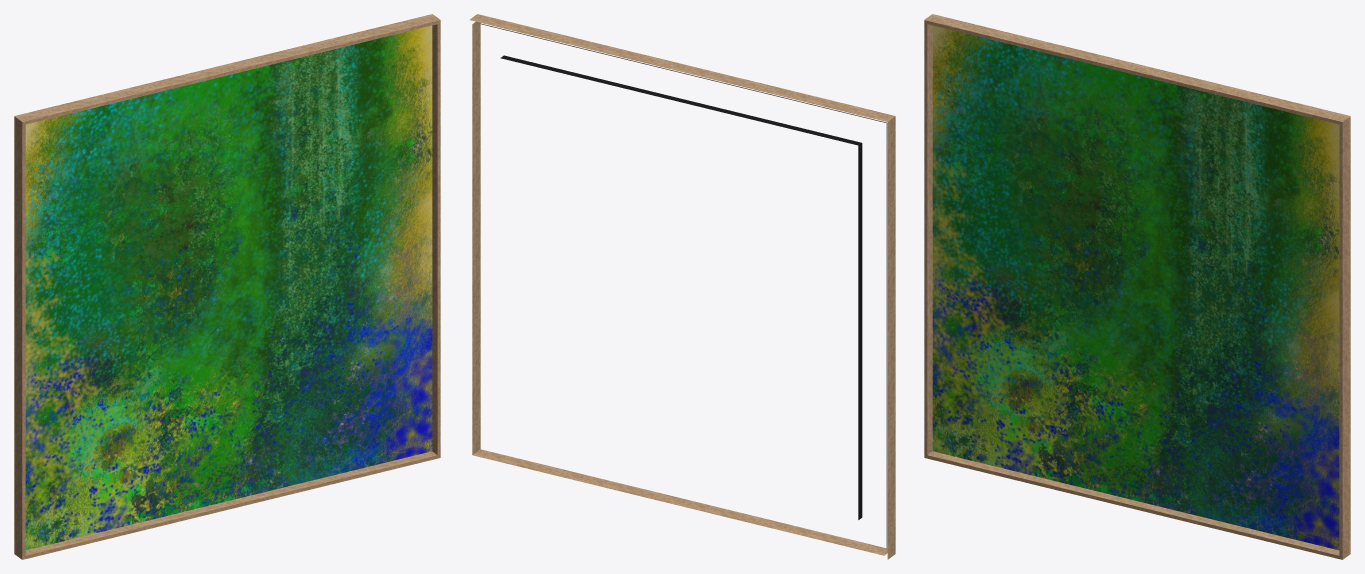
The model's file is va241_grand_caisse-chene.glb.
The picture shows the model from 3 angles, left to right: view 1: azimuth 30°, elevation 25°; view 2: azimuth 150°, elevation 25°; view 3: azimuth 330°, elevation 25°; orthographic projection.
Parts seen in each view (by area): view 1: va241_grand_caisse-chene; view 2: va241_grand_caisse-chene; view 3: va241_grand_caisse-chene.
Part boxes in pixels (<box>): va241_grand_caisse-chene: <box>14,14,440,559</box>; va241_grand_caisse-chene: <box>469,14,895,559</box>; va241_grand_caisse-chene: <box>924,14,1350,559</box>.
Bounding box in the file's own units: 1.03 × 1.03 × 0.035.
Materials: 4 (2 with a texture image).
